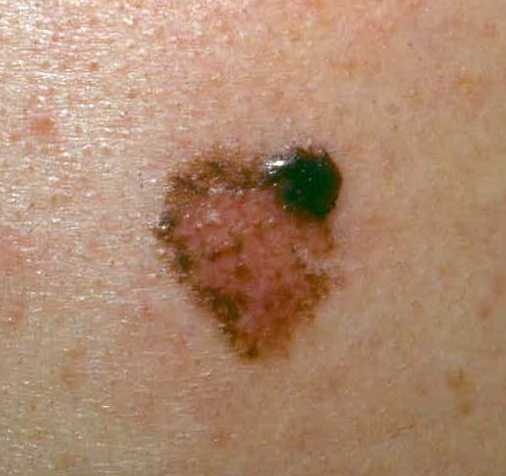melanoma: (100, 49, 458, 403)
